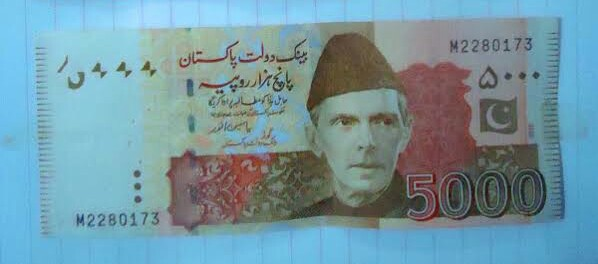5000 rupee: (25, 27, 571, 224)
